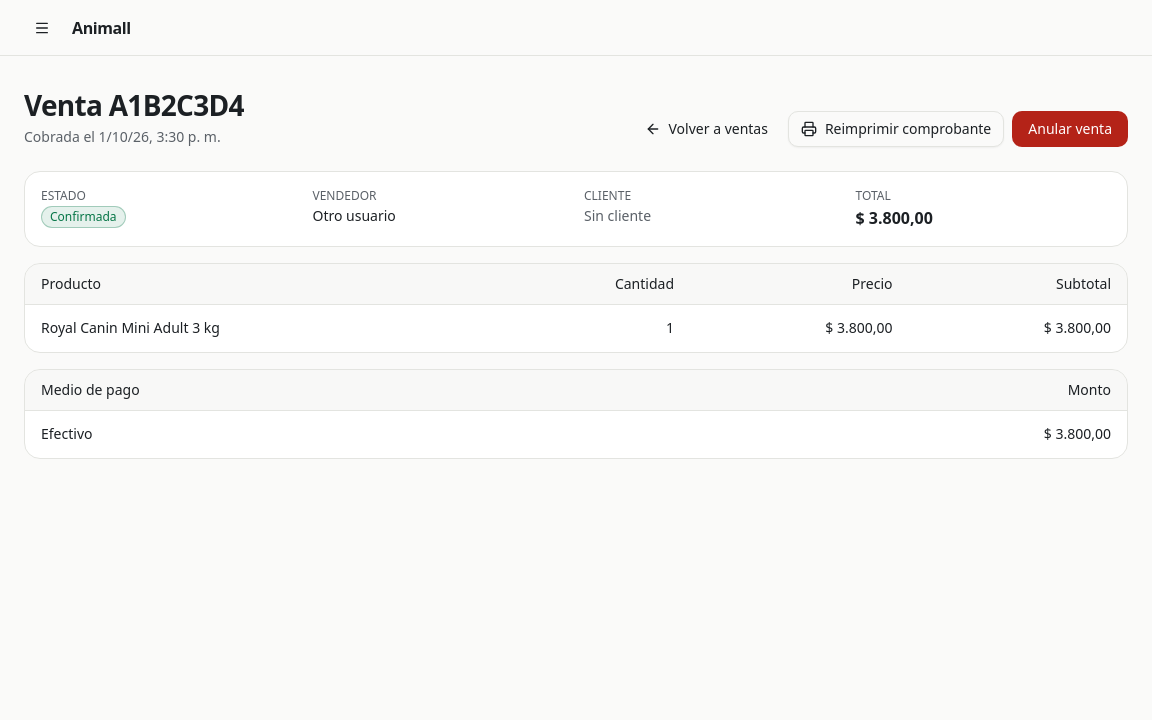
Test: VentaDetallePage › la duena anula con motivo y la venta pasa a Anulada con ese motivo
Click the button "Anular venta".
click(1070, 129)  # box [1012,111,1128,147]
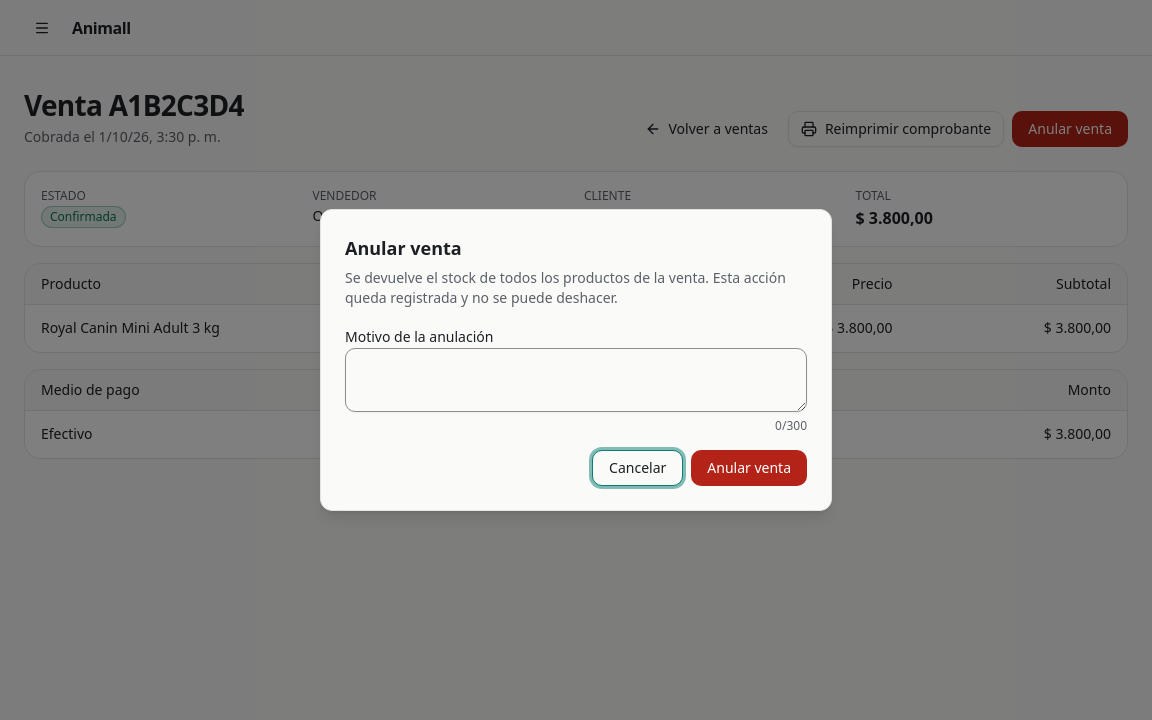
Type "cliente se arrepintió" into the text box labelled "Motivo de la anulación".
click(576, 380); type("cliente se arrepintió")  # box [345,348,807,412]
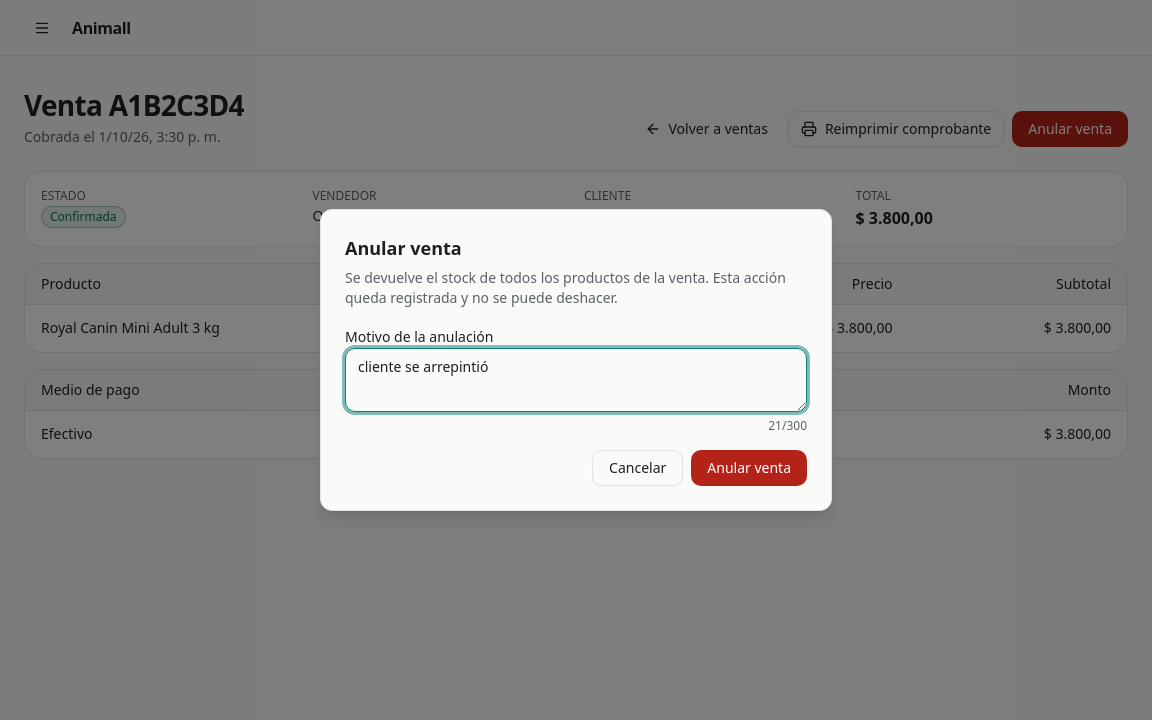
Click the button "Anular venta".
click(749, 468)  # box [691,450,807,486]
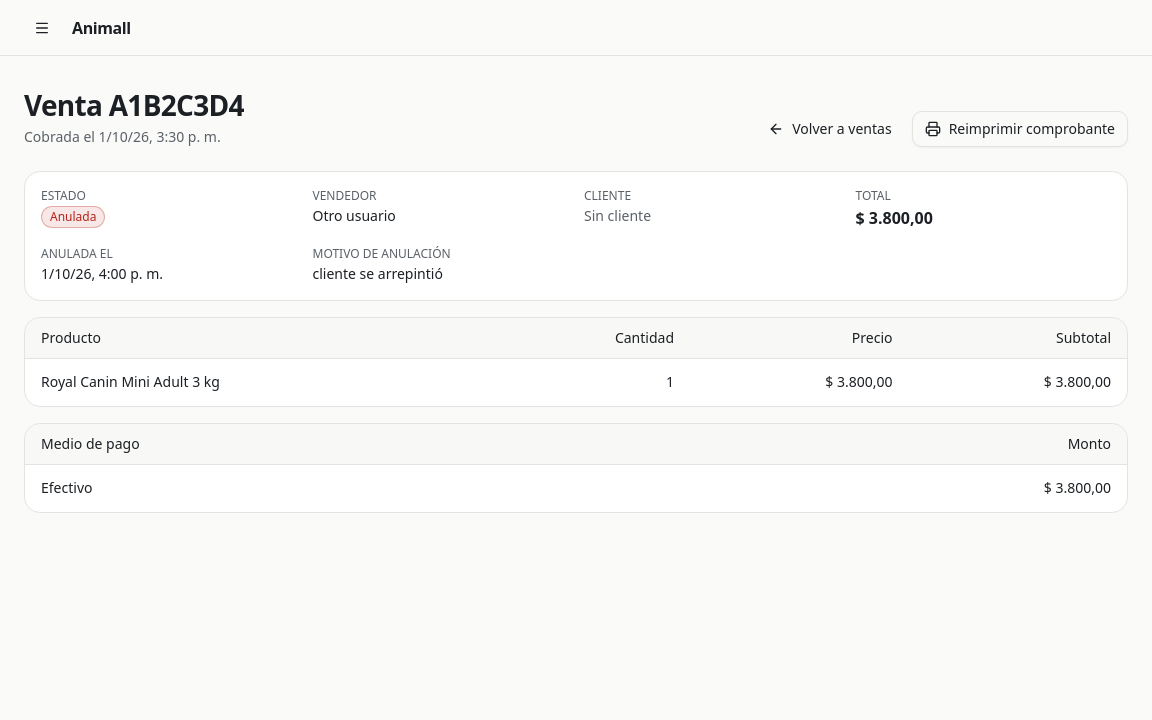
Expected: the text "cliente se arrepintió" is shown, [312,264,443,283]
Expected: the text "Anulada" is shown, [41,206,106,228]
Expected: the button "Anular venta" is gone
